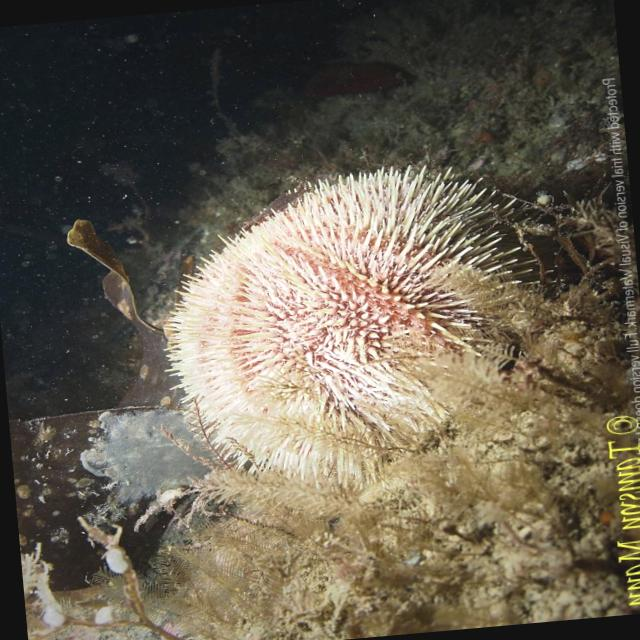Deniz Kestanesi: (149, 152, 572, 516)
